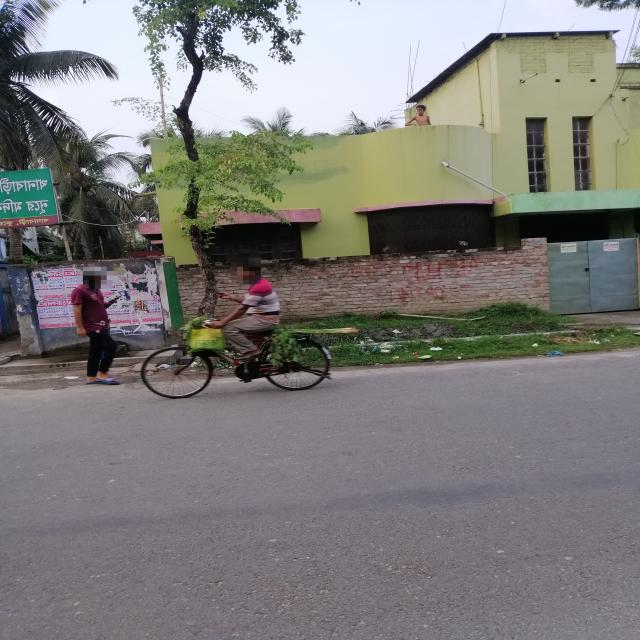Bicycle: (132, 327, 346, 400)
